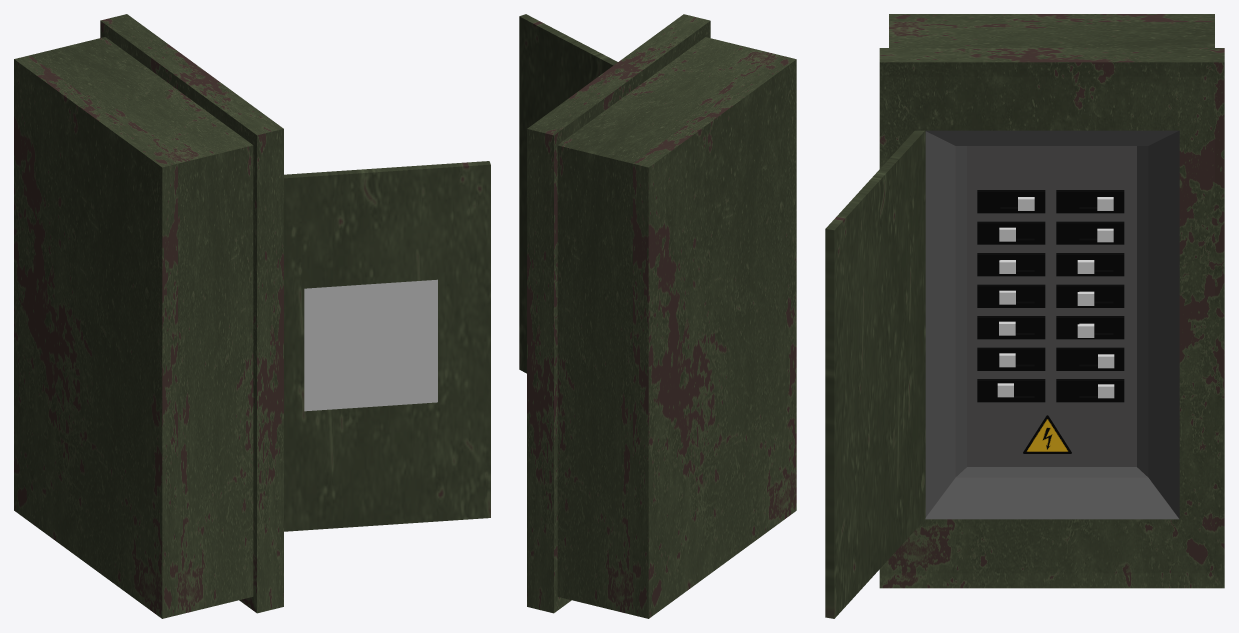
File: breakbox.fbx
3 renders of one model, left to right at view 1: azimuth 30°, elevation 25°; view 2: azimuth 150°, elevation 25°; view 3: azimuth 270°, elevation 25°, orthographic. The views are drawn at different scales.
Visible parts, largest first — view 1: Cube, Cube.001, S2_WarningSigns_W-01-2947578850; view 2: Cube, Cube.001; view 3: Cube, Cube.001, Cube.002, electric-clipart-warning-3-2768510746.
Part boxes in pixels (<box>): Cube: <box>14,14,283,618</box>; Cube.001: <box>284,161,490,531</box>; S2_WarningSigns_W-01-2947578850: <box>304,279,437,411</box>; Cube: <box>527,14,796,618</box>; Cube.001: <box>519,14,617,373</box>; Cube: <box>879,14,1224,588</box>; Cube.001: <box>825,130,925,618</box>; Cube.002: <box>977,190,1124,402</box>; electric-clipart-warning-3-2768510746: <box>1023,415,1071,453</box>.
Bounding box in the file's own units: 46.62 × 70.42 × 48.43.
